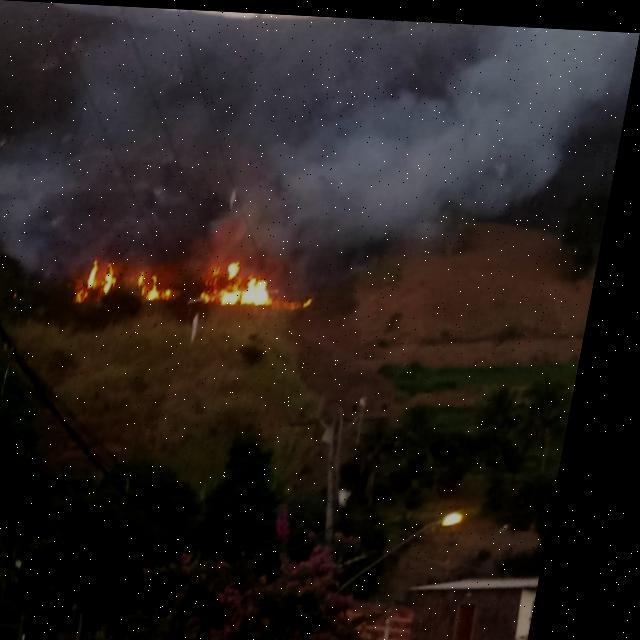Fire: (81, 258, 183, 308), (208, 264, 290, 304)
